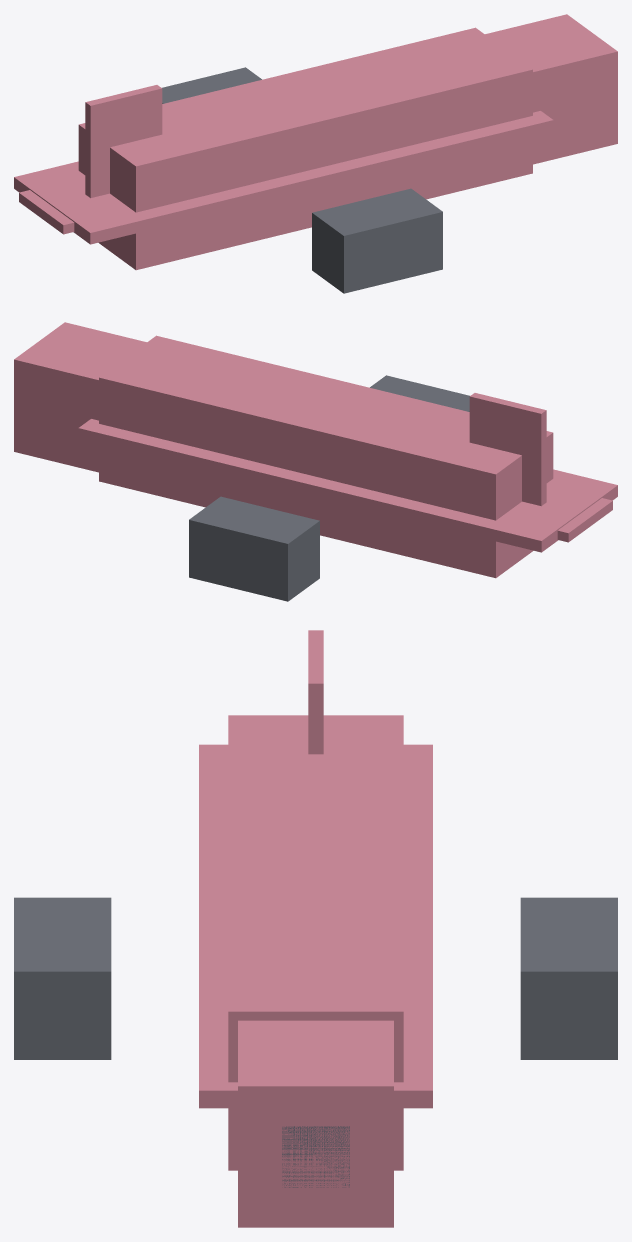
Rendered from bomber_sell.glb.
3 views of the same model, one above another, from view 1: azimuth 30°, elevation 25°; view 2: azimuth 150°, elevation 25°; view 3: azimuth 270°, elevation 25° (orthographic). The views are drawn at different scales.
Visible parts, largest first — view 1: body; view 2: body; view 3: body.
Boxes of the visible parts, x1,y1,x2,y2 form: body: (14, 14, 617, 293); body: (14, 322, 617, 601); body: (14, 630, 617, 1227).
Bounding box in the file's own units: 10 × 2.7 × 6.2.
